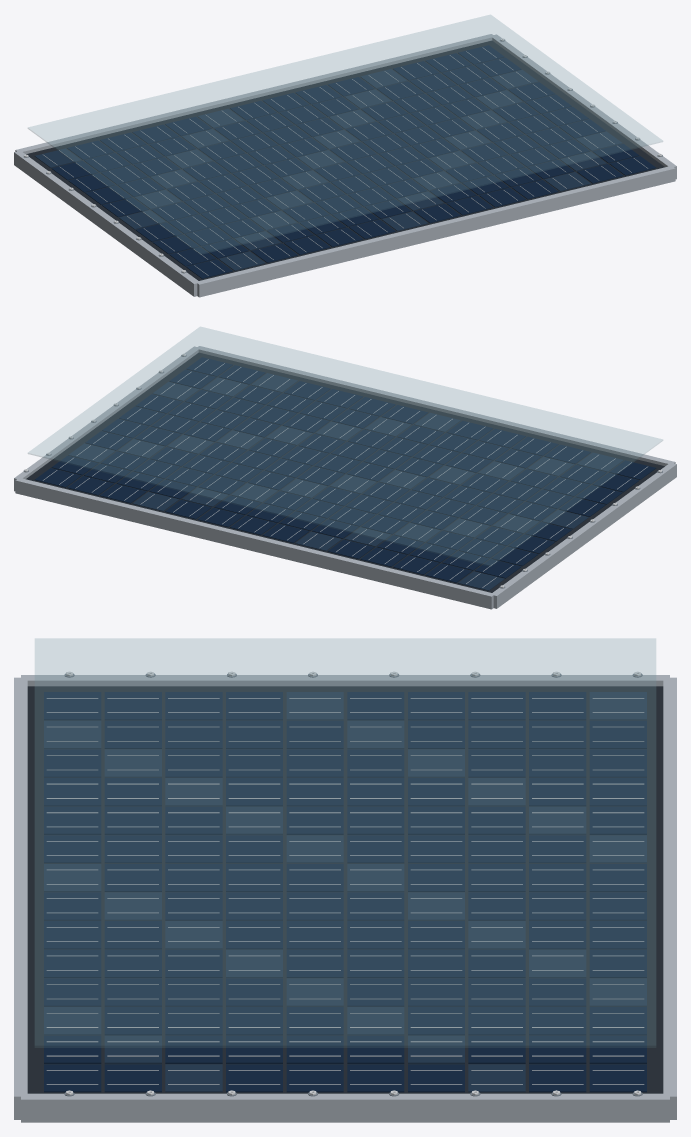
The model's file is mariner-solar.glb.
The picture shows the model from 3 angles, top to bottom: view 1: azimuth 30°, elevation 25°; view 2: azimuth 150°, elevation 25°; view 3: azimuth 270°, elevation 25°; orthographic projection. The views are drawn at different scales.
Parts seen in each view (by area): view 1: COVERGLASS_Optical_glass, SOLAR_LAYER_CELLS_Solar_semiconductor, SOLAR_LAYER_Machined_aluminium, SOLAR_LAYER_CELLS_Solar_semiconductor_alternate, SOLAR_LAYER_Anodized_aluminium, SOLAR_LAYER_CELLS_Machined_edge; view 2: COVERGLASS_Optical_glass, SOLAR_LAYER_CELLS_Solar_semiconductor, SOLAR_LAYER_Machined_aluminium, SOLAR_LAYER_CELLS_Solar_semiconductor_alternate, SOLAR_LAYER_Anodized_aluminium, SOLAR_LAYER_CELLS_Machined_edge; view 3: COVERGLASS_Optical_glass, SOLAR_LAYER_CELLS_Solar_semiconductor, SOLAR_LAYER_CELLS_Solar_semiconductor_alternate, SOLAR_LAYER_Anodized_aluminium, SOLAR_LAYER_Machined_aluminium, SOLAR_LAYER_CELLS_Machined_edge.
Boxes of the visible parts, x1=… form: COVERGLASS_Optical_glass: x1=28, y1=15, x2=662, y2=254; SOLAR_LAYER_CELLS_Solar_semiconductor: x1=51, y1=45, x2=655, y2=278; SOLAR_LAYER_Machined_aluminium: x1=14, y1=34, x2=676, y2=297; SOLAR_LAYER_CELLS_Solar_semiconductor_alternate: x1=34, y1=69, x2=622, y2=270; SOLAR_LAYER_Anodized_aluminium: x1=26, y1=40, x2=664, y2=280; SOLAR_LAYER_CELLS_Machined_edge: x1=43, y1=47, x2=647, y2=275; COVERGLASS_Optical_glass: x1=28, y1=327, x2=662, y2=566; SOLAR_LAYER_CELLS_Solar_semiconductor: x1=35, y1=357, x2=656, y2=582; SOLAR_LAYER_Machined_aluminium: x1=14, y1=346, x2=676, y2=609; SOLAR_LAYER_CELLS_Solar_semiconductor_alternate: x1=68, y1=373, x2=623, y2=590; SOLAR_LAYER_Anodized_aluminium: x1=26, y1=352, x2=664, y2=592; SOLAR_LAYER_CELLS_Machined_edge: x1=43, y1=359, x2=647, y2=587; COVERGLASS_Optical_glass: x1=35, y1=638, x2=655, y2=1047; SOLAR_LAYER_CELLS_Solar_semiconductor: x1=44, y1=692, x2=646, y2=1092; SOLAR_LAYER_CELLS_Solar_semiconductor_alternate: x1=44, y1=692, x2=646, y2=1092; SOLAR_LAYER_Anodized_aluminium: x1=27, y1=686, x2=663, y2=1093; SOLAR_LAYER_Machined_aluminium: x1=14, y1=675, x2=676, y2=1122; SOLAR_LAYER_CELLS_Machined_edge: x1=46, y1=698, x2=644, y2=1084.
Size of the model in its own units: 0.588 by 0.0636 by 0.388.
